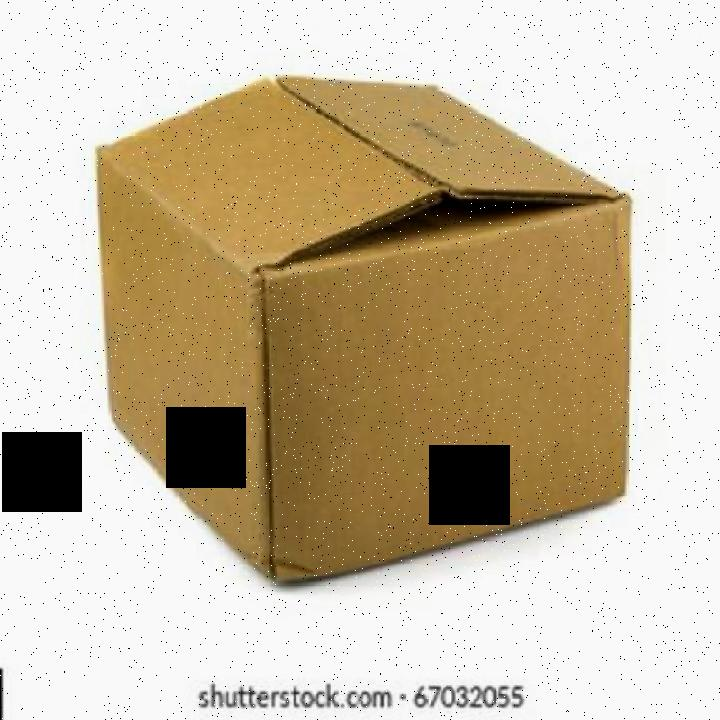box: (80, 74, 638, 588)
